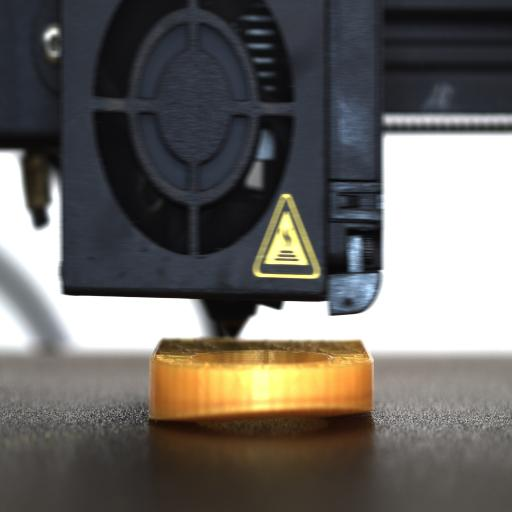warp: (151, 402, 366, 424)
